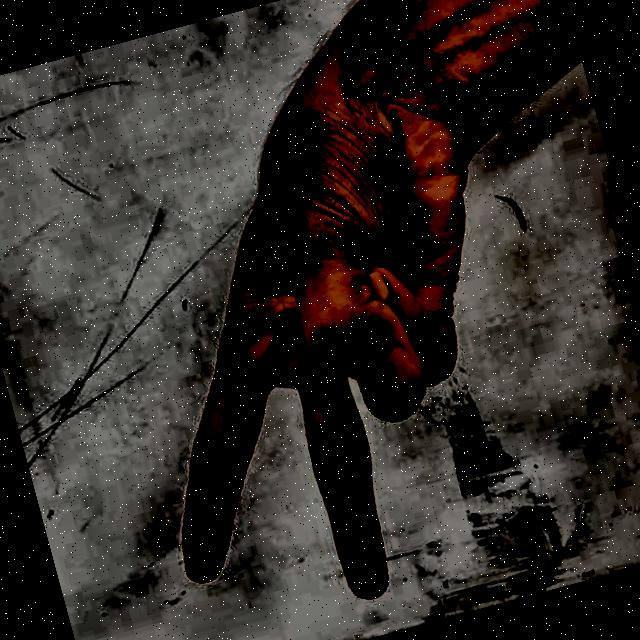Pa: (52, 14, 588, 640)
